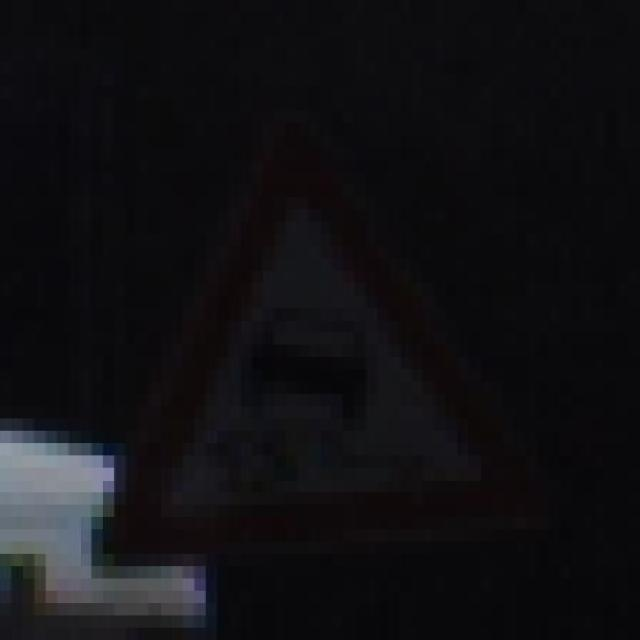Slippery Road Ahead: (69, 111, 560, 566)
